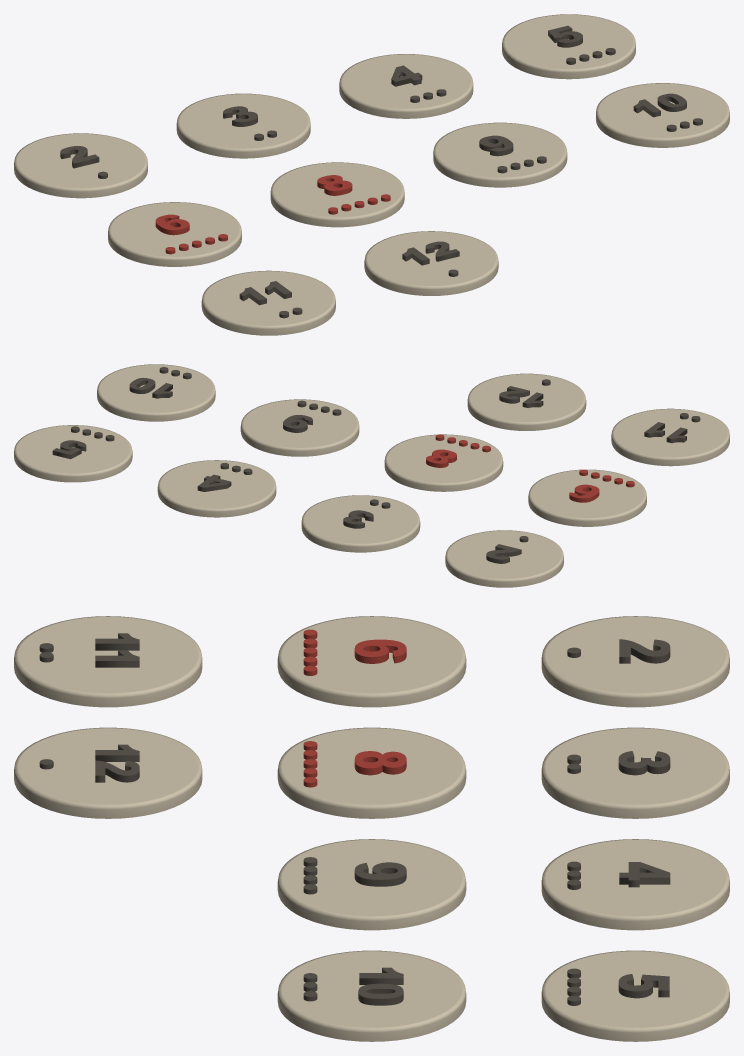
Rendered from tokens.glb.
3 views of the same model, one above another, from view 1: azimuth 30°, elevation 25°; view 2: azimuth 150°, elevation 25°; view 3: azimuth 270°, elevation 25° (orthographic). The views are drawn at different scales.
Parts seen in each view (by area): view 1: token_3, token_9, token_8, token_11, token_12, token_4, token_2, token_5, token_10, token_6; view 2: token_4, token_2, token_3, token_10, token_6, token_9, token_8, token_12, token_5, token_11; view 3: token_10, token_8, token_9, token_6, token_2, token_11, token_5, token_4, token_3, token_12.
Part boxes in pixels (x1,y1,x2,y2): token_3: [176, 93, 310, 158]; token_9: [433, 122, 567, 187]; token_8: [270, 162, 404, 227]; token_11: [201, 270, 335, 335]; token_12: [364, 231, 498, 295]; token_4: [339, 54, 473, 118]; token_2: [14, 133, 147, 198]; token_5: [502, 14, 635, 79]; token_10: [596, 83, 729, 147]; token_6: [108, 202, 241, 266]; token_4: [157, 460, 276, 517]; token_2: [445, 530, 563, 587]; token_3: [301, 495, 420, 552]; token_10: [97, 364, 215, 421]; token_6: [528, 469, 646, 526]; token_9: [240, 399, 359, 456]; token_8: [384, 434, 503, 491]; token_12: [467, 373, 586, 430]; token_5: [14, 425, 132, 482]; token_11: [611, 408, 729, 466]; token_10: [277, 950, 466, 1041]; token_8: [277, 727, 466, 818]; token_9: [277, 839, 466, 930]; token_6: [277, 616, 466, 707]; token_2: [541, 616, 729, 707]; token_11: [14, 616, 202, 707]; token_5: [541, 950, 729, 1041]; token_4: [541, 839, 729, 930]; token_3: [541, 727, 729, 818]; token_12: [14, 727, 202, 818].
Bounding box in the file's own units: 1.56 × 0.034 × 1.14.
